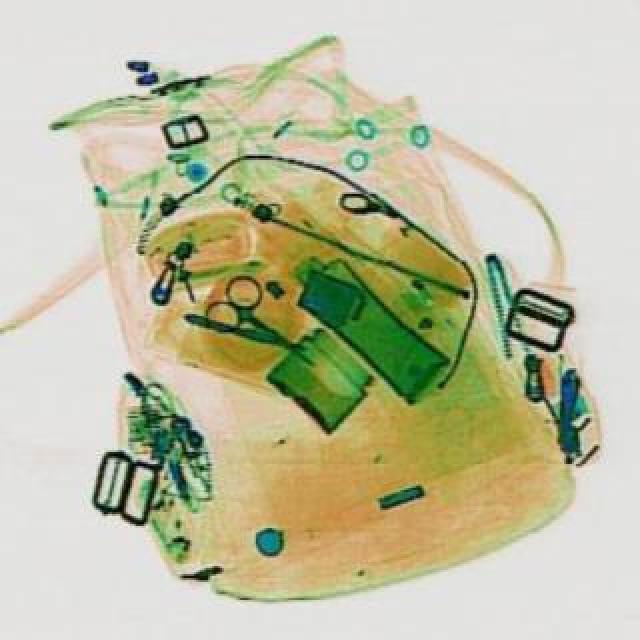pliers: (194, 266, 334, 388)
